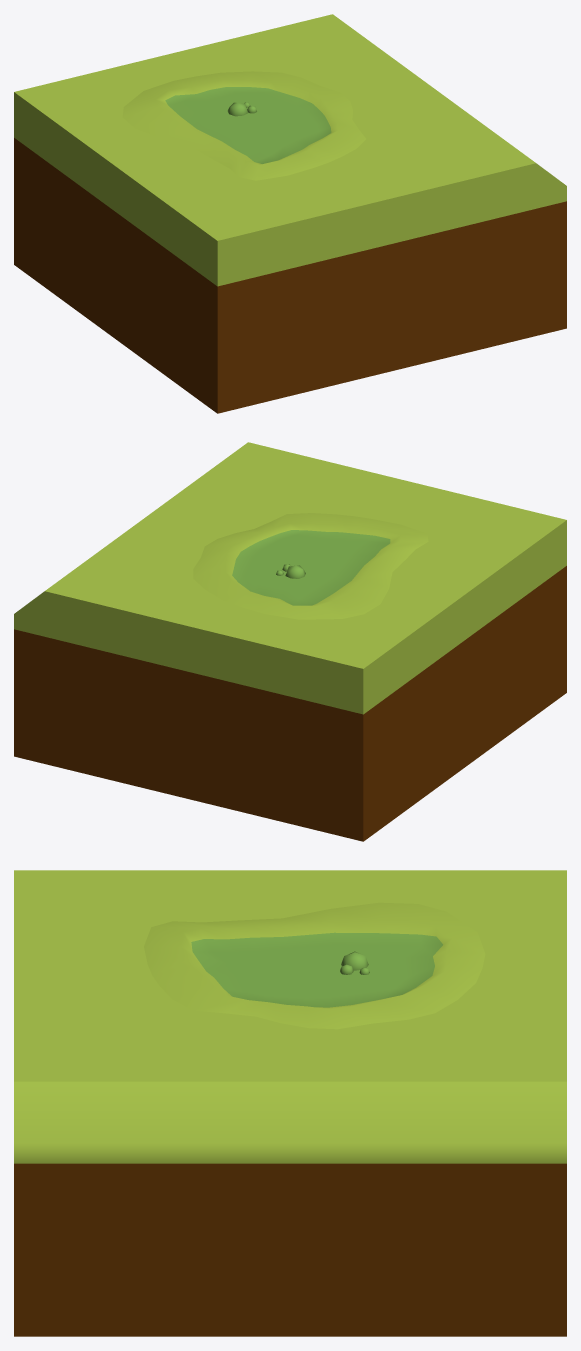
Rendered from ToxicCrater01.fbx.
The picture shows the model from 3 angles, top to bottom: view 1: azimuth 30°, elevation 25°; view 2: azimuth 150°, elevation 25°; view 3: azimuth 270°, elevation 25°; orthographic projection. The views are drawn at different scales.
Visible parts, largest first — view 1: ToxicCrater01; view 2: ToxicCrater01; view 3: ToxicCrater01.
Boxes of the visible parts, x1=… form: ToxicCrater01: x1=14, y1=14, x2=566, y2=413; ToxicCrater01: x1=14, y1=442, x2=566, y2=841; ToxicCrater01: x1=14, y1=870, x2=566, y2=1336.
Size of the model in its own units: 96.18 by 48.22 by 97.03.
1 material, 1 textured.
